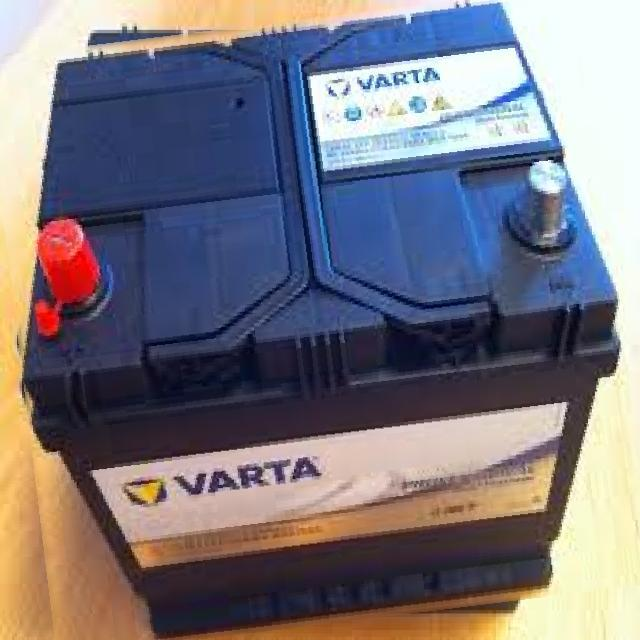Battery: (22, 0, 640, 640)
